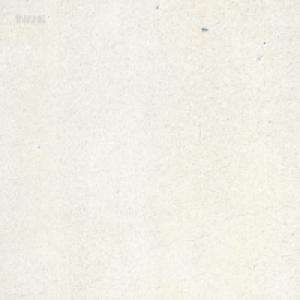Nail: (201, 26, 208, 31)
